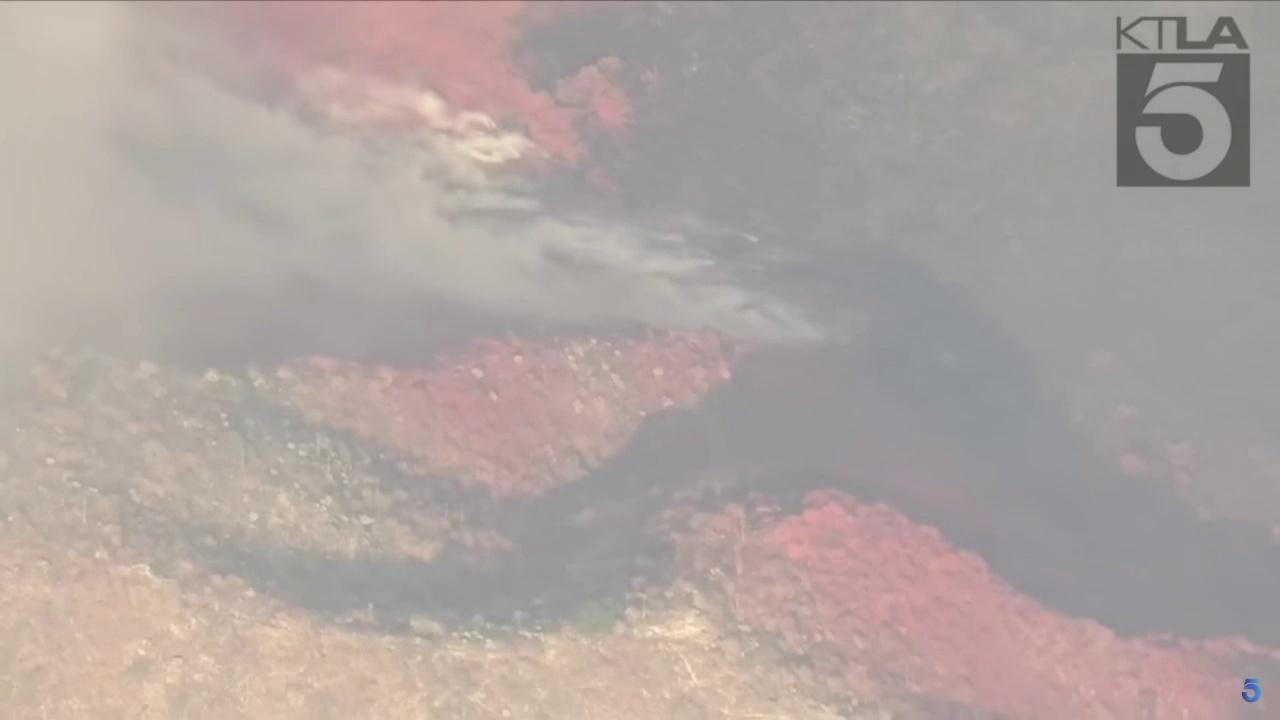smoke: (0, 0, 822, 342)
